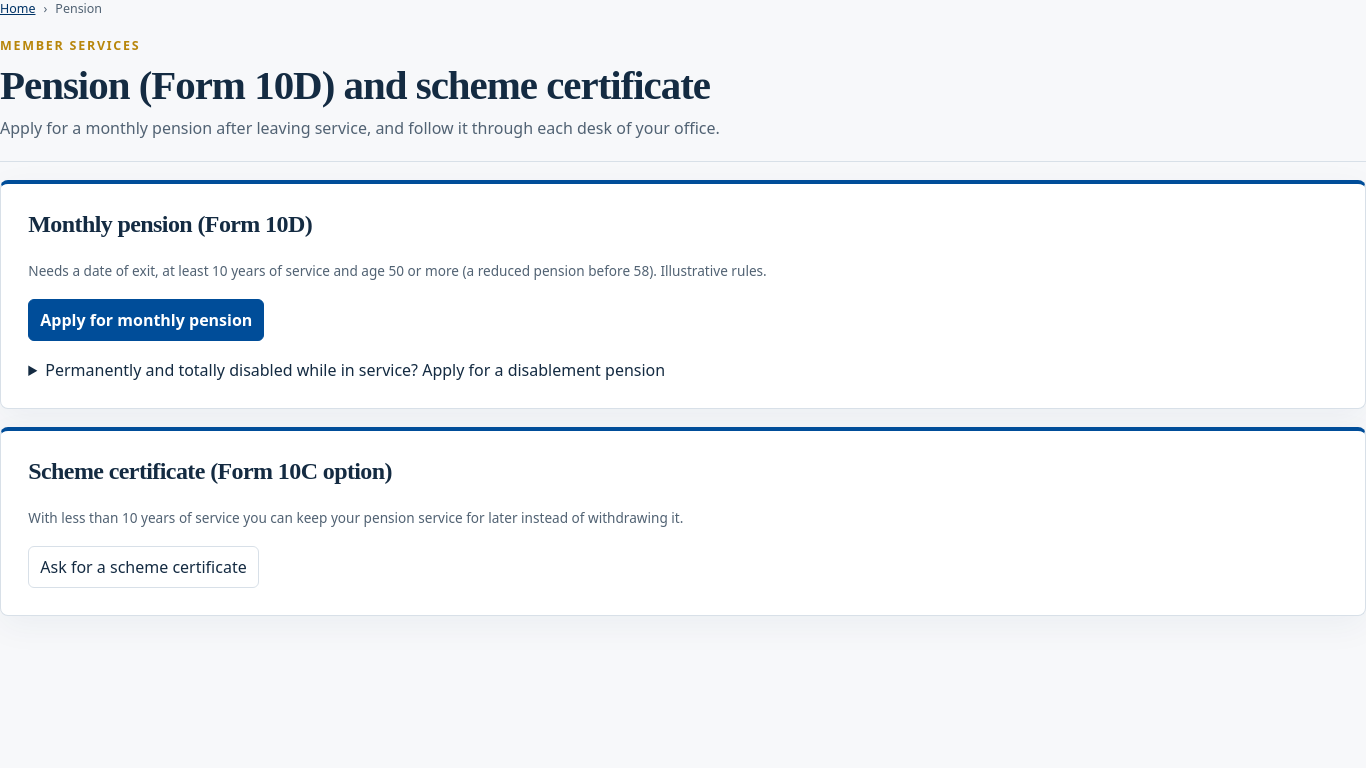
Test: files a disablement pension with the medical certificate (EPS para 15)
Click the heading "Apply for a disablement pension".
click(355, 370)  # box left=45, top=359, right=665, bottom=381
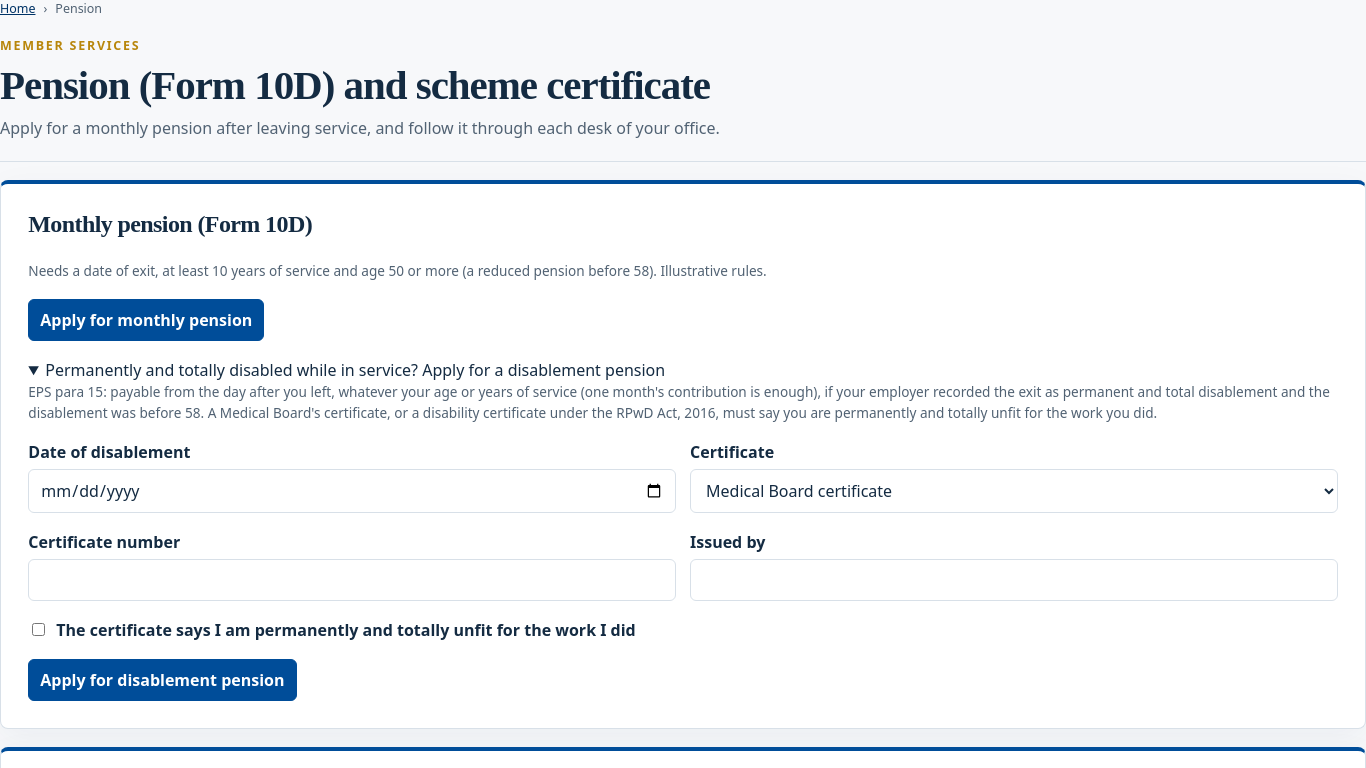
Type "2026-08-12" into the date field labelled "Date of disablement".
click(352, 491); type("2026-08-12")  # box left=28, top=469, right=676, bottom=513
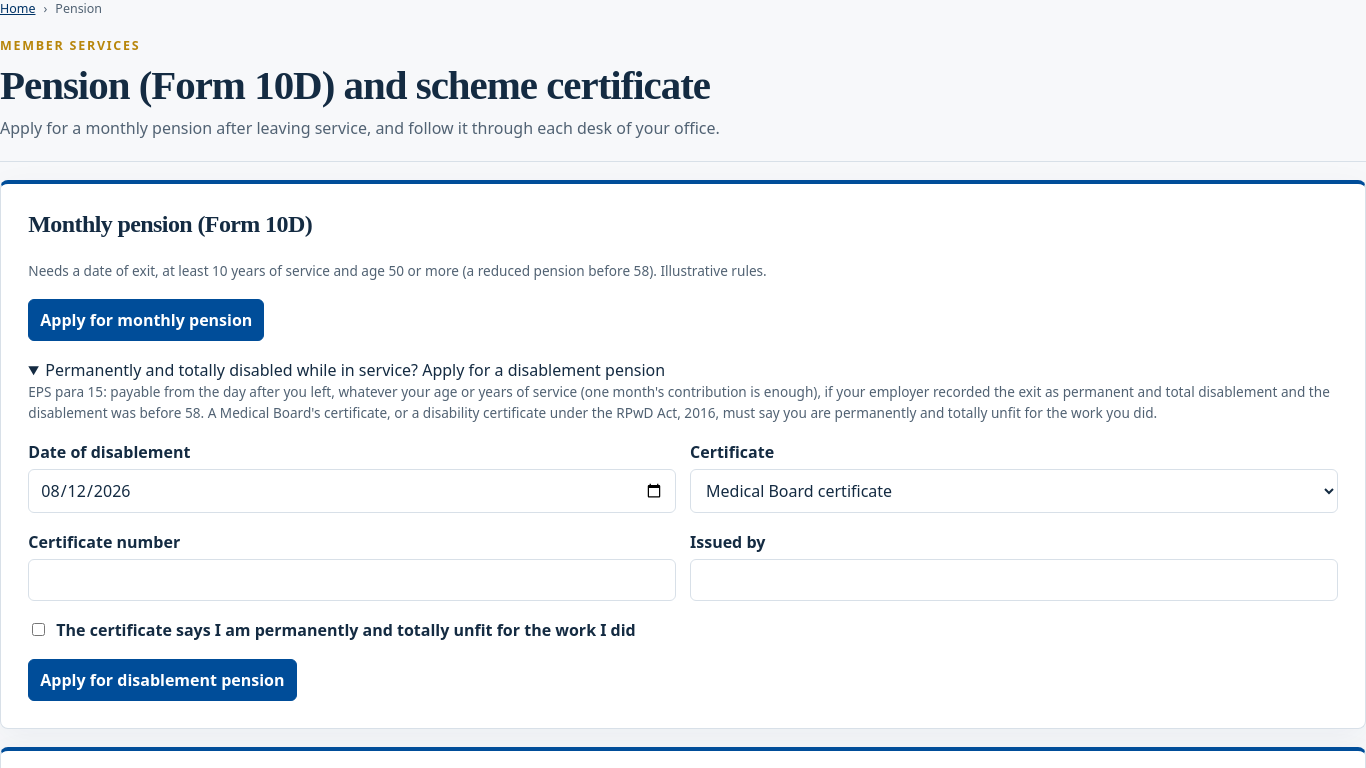
Type "MB/DL/2026/0815" into the field labelled "Certificate number".
click(352, 580); type("MB/DL/2026/0815")  # box left=28, top=559, right=676, bottom=601
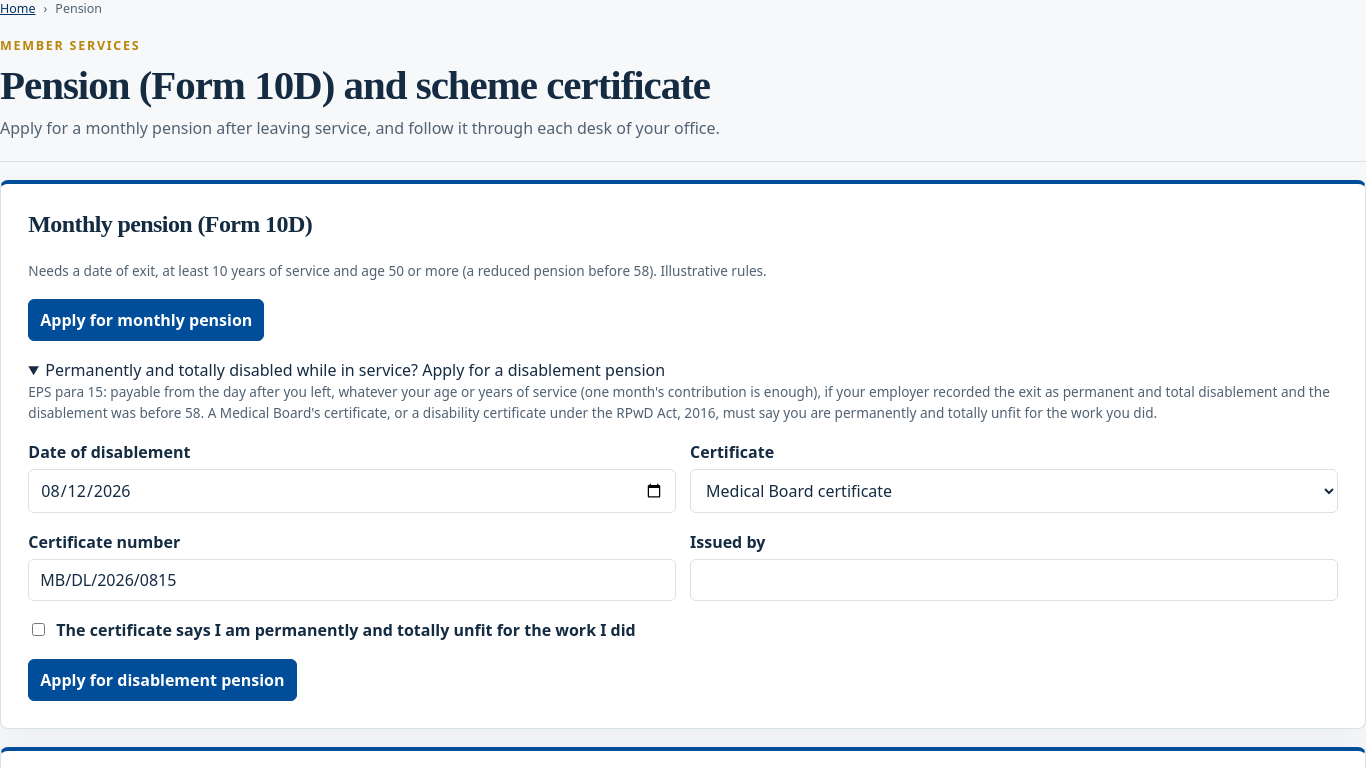
Type "Medical Board" into the field labelled "Issued by".
click(1014, 580); type("Medical Board")  # box left=690, top=559, right=1338, bottom=601
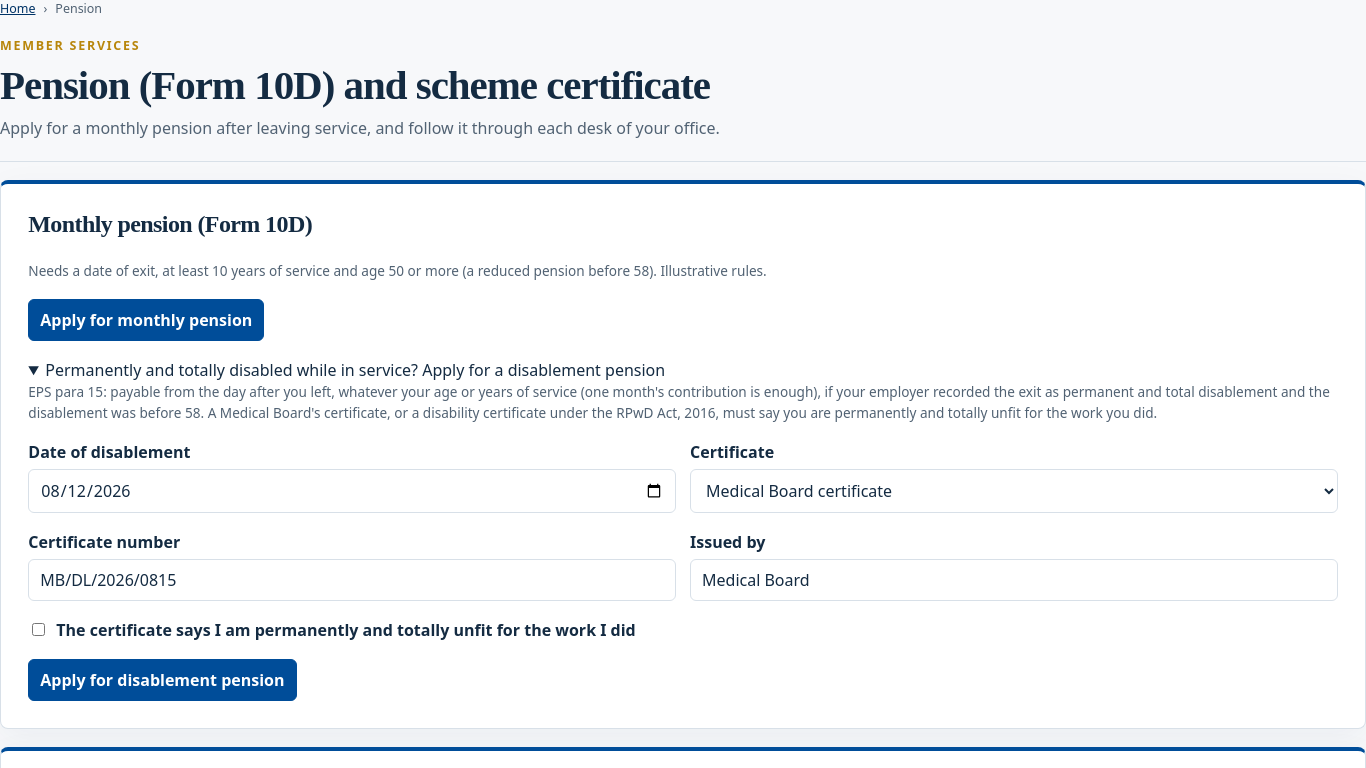
Click the checkbox labelled "permanently and totally unfit".
click(39, 630)  # box left=32, top=623, right=45, bottom=636
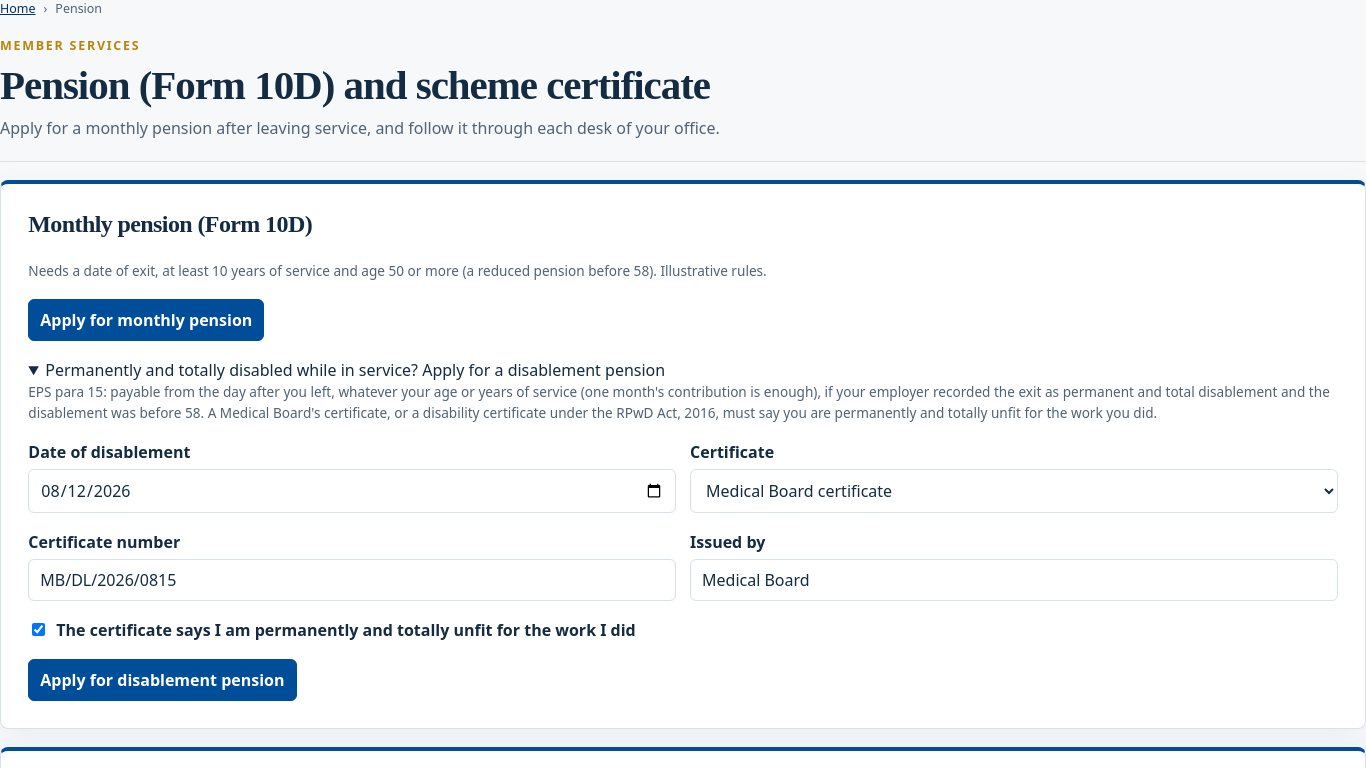
Click the button "Apply for disablement pension".
click(162, 680)  # box left=28, top=659, right=296, bottom=701
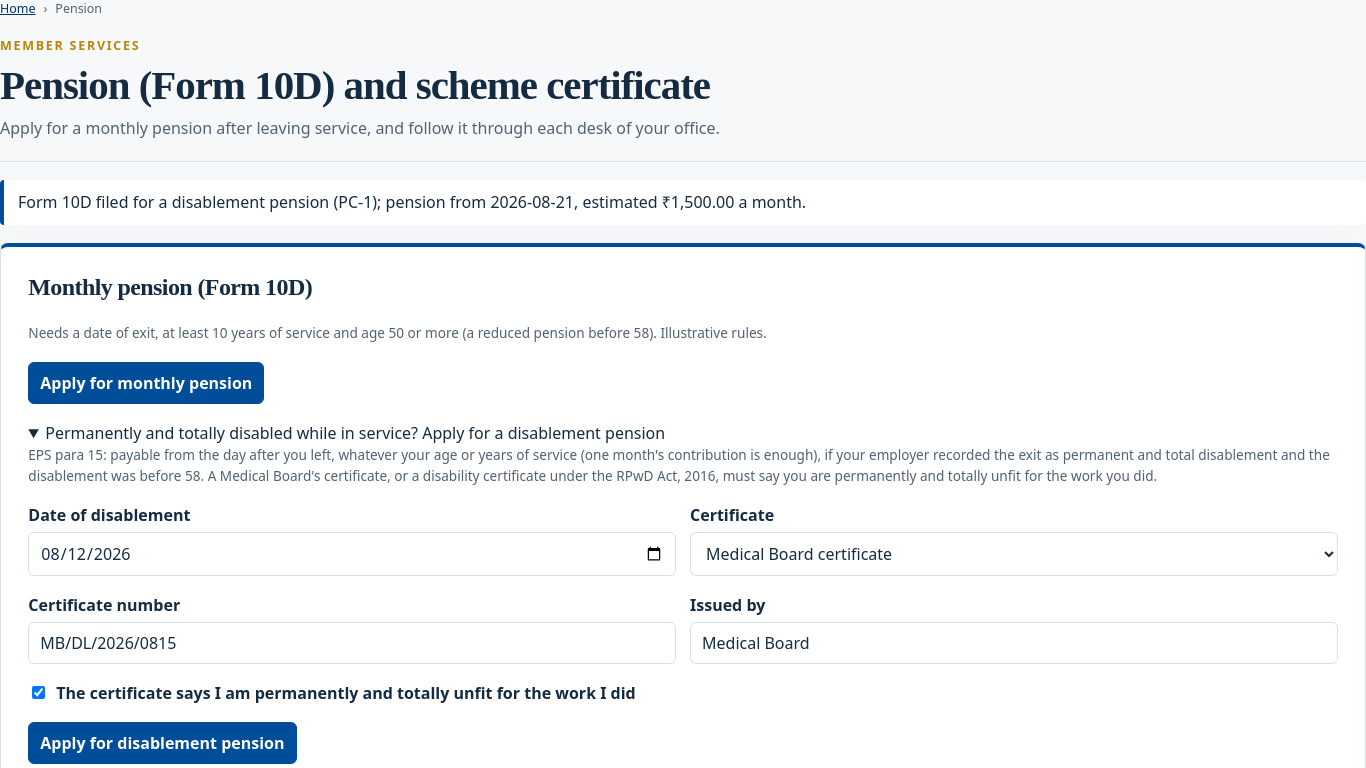
Expected: the text "disablement pension (PC-1); pension from 2026-08-21" is shown, left=18, top=191, right=806, bottom=213
